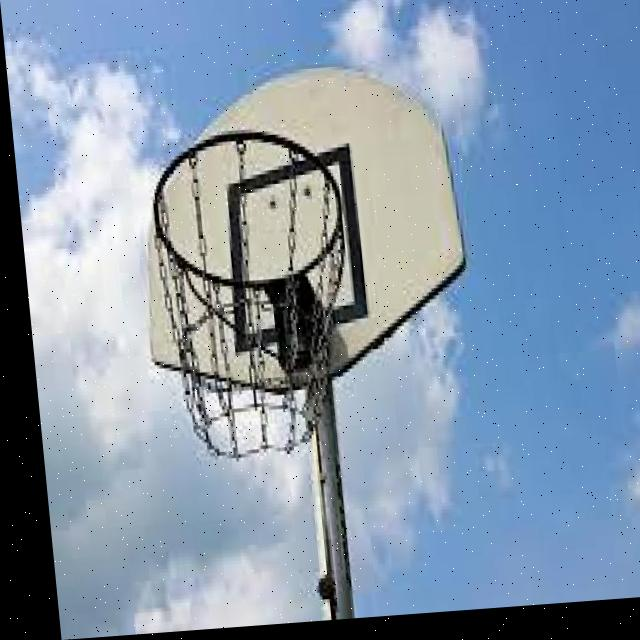hoop: (147, 123, 367, 467)
